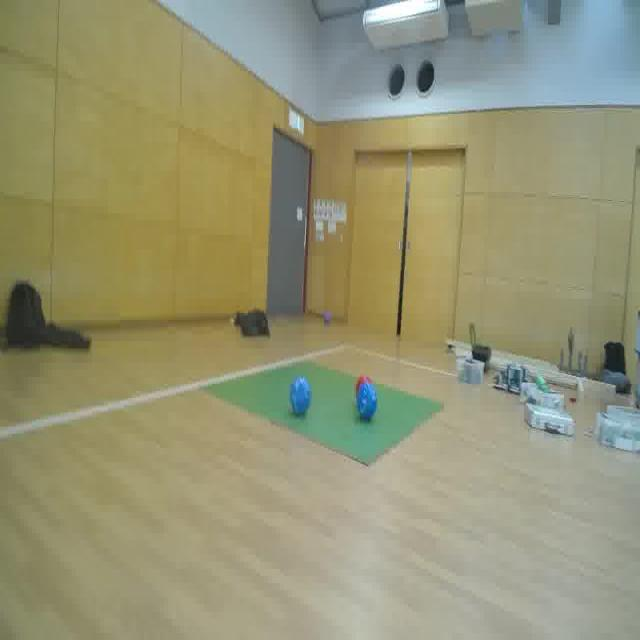blue_ball: (286, 368, 316, 424), (356, 381, 378, 424)
purple_ball: (322, 308, 332, 330)
red_ball: (353, 371, 371, 406)
